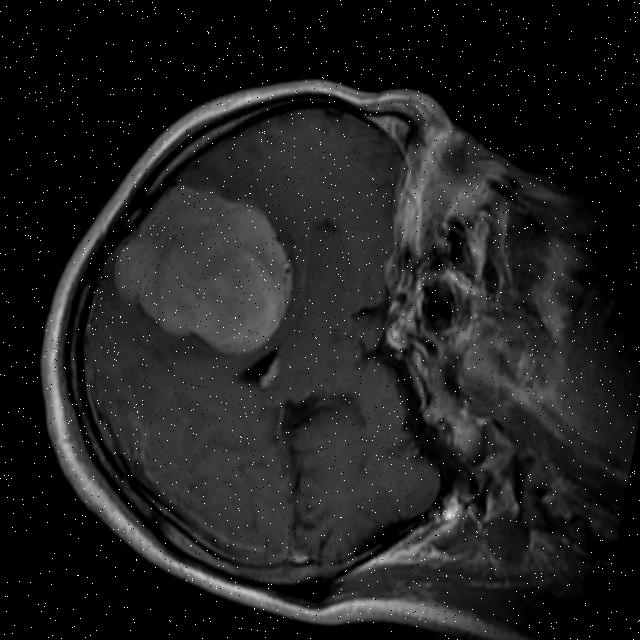Meningioma: (102, 167, 308, 370)
